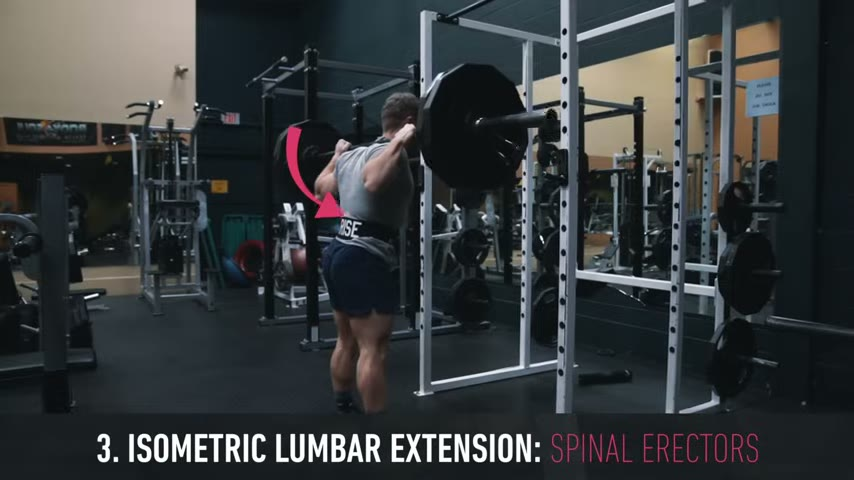barbell_plate_side: (461, 47, 534, 200)
